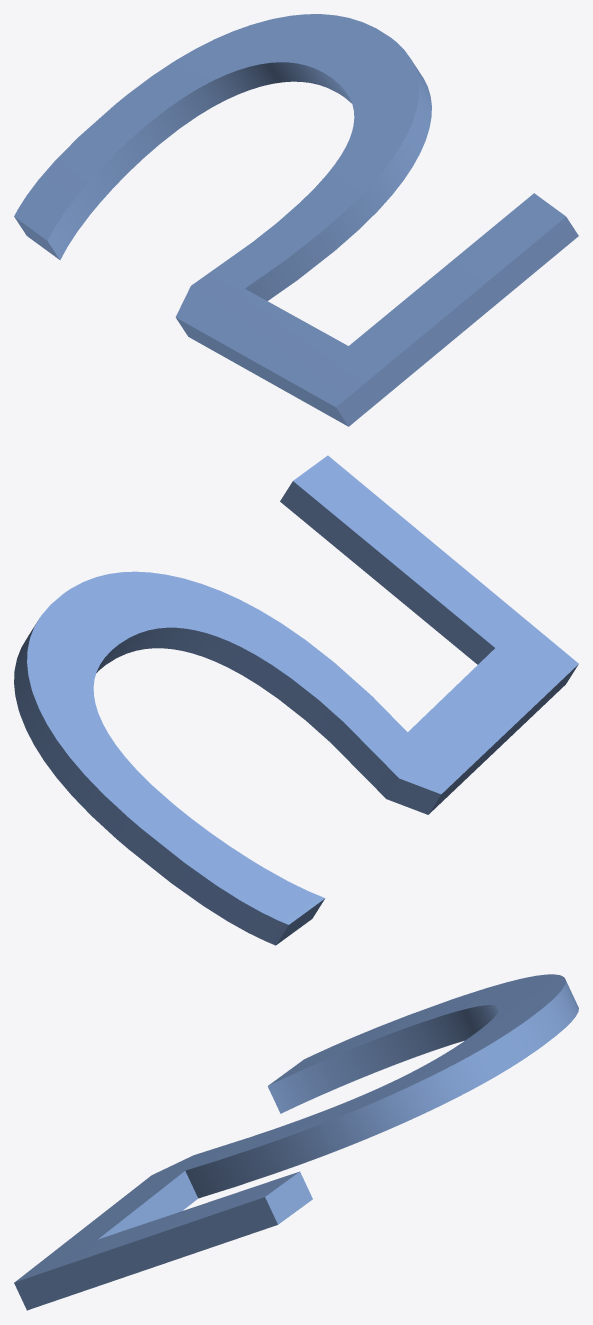
File: New_Number_5.gltf
The picture shows the model from 3 angles, top to bottom: view 1: azimuth 30°, elevation 25°; view 2: azimuth 150°, elevation 25°; view 3: azimuth 330°, elevation 25°; orthographic projection. The views are drawn at different scales.
Parts seen in each view (by area): view 1: Part 320; view 2: Part 320; view 3: Part 320.
Boxes of the visible parts, x1,y1,x2,y2 form: Part 320: [14, 14, 578, 426]; Part 320: [14, 455, 578, 945]; Part 320: [14, 974, 578, 1310].
Bounding box in the file's own units: 0.00314 × 0.00191 × 0.00558.
